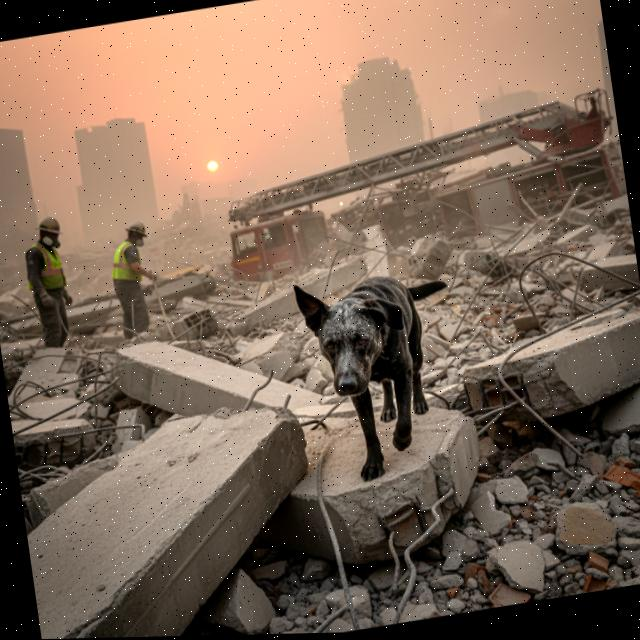dog: (281, 245, 478, 484)
rescuer: (95, 206, 169, 347), (20, 205, 80, 351)
